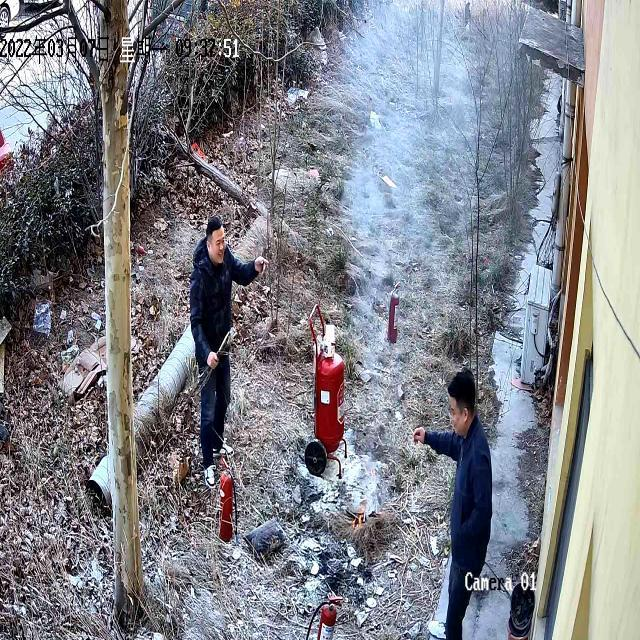Smoke: (314, 11, 510, 321), (343, 502, 394, 547)
